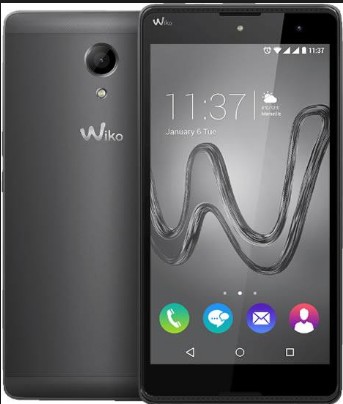phone: (134, 3, 343, 404), (1, 8, 146, 404)
